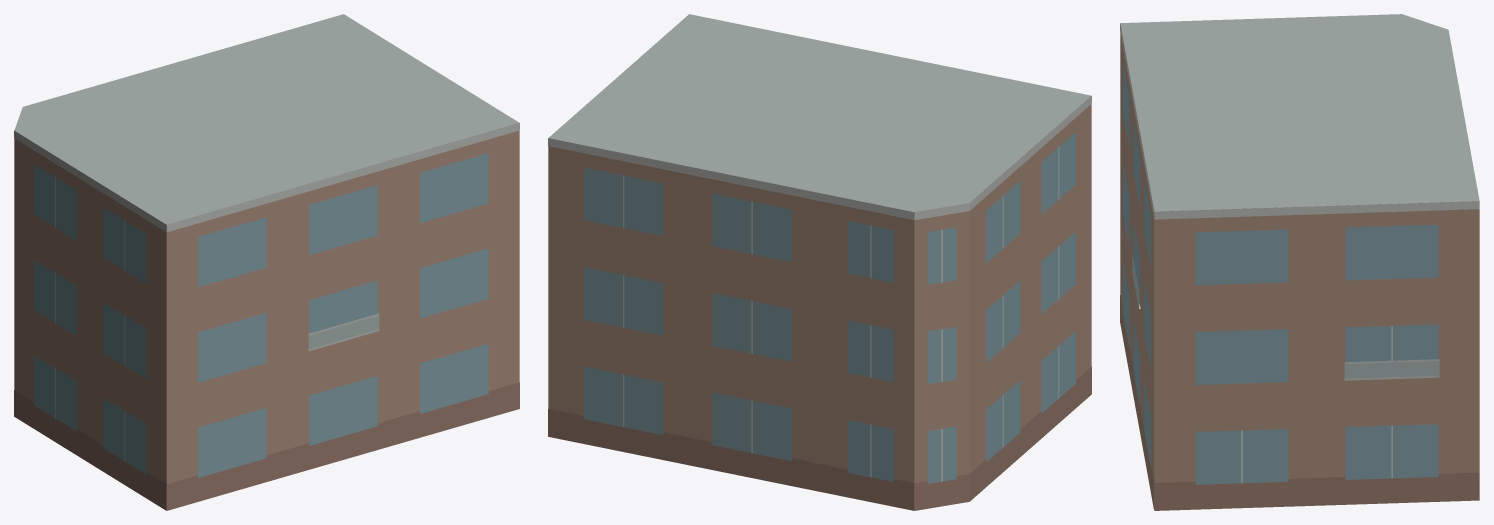
Rendered from survey-upis-32697193.glb.
The picture shows the model from 3 angles, left to right: view 1: azimuth 30°, elevation 25°; view 2: azimuth 150°, elevation 25°; view 3: azimuth 270°, elevation 25°; orthographic projection. The views are drawn at different scales.
Visible parts, largest first — view 1: survey-upis-32697193.tmp; view 2: survey-upis-32697193.tmp; view 3: survey-upis-32697193.tmp.
Boxes of the visible parts, left/top/right/bottom form: survey-upis-32697193.tmp: left=14, top=14, right=519, bottom=510; survey-upis-32697193.tmp: left=548, top=14, right=1091, bottom=510; survey-upis-32697193.tmp: left=1120, top=14, right=1479, bottom=510.
Size of the model in its own units: 12.97 by 9.15 by 9.97.
